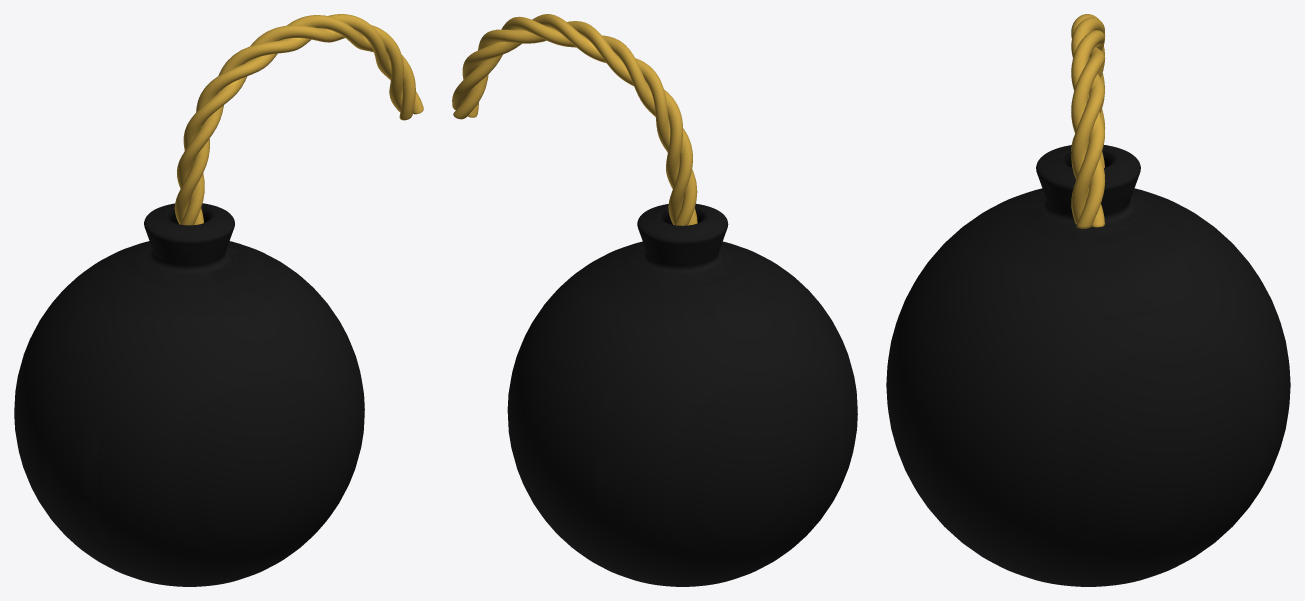
The model's file is Round Bomb.fbx.
3 renders of one model, left to right at view 1: azimuth 30°, elevation 25°; view 2: azimuth 150°, elevation 25°; view 3: azimuth 270°, elevation 25°, orthographic. The views are drawn at different scales.
Visible parts, largest first — view 1: Bomb; view 2: Bomb; view 3: Bomb.
Boxes of the visible parts, x1,y1,x2,y2 form: Bomb: (14, 14, 423, 586); Bomb: (452, 14, 857, 586); Bomb: (886, 14, 1290, 586).
Bounding box in the file's own units: 518 × 677 × 411.
Materials: 1 (1 with a texture image).
